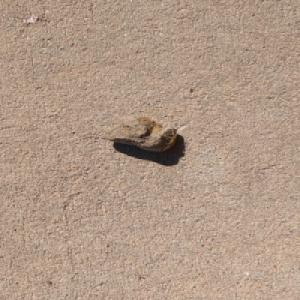Rock: (99, 114, 177, 151)
